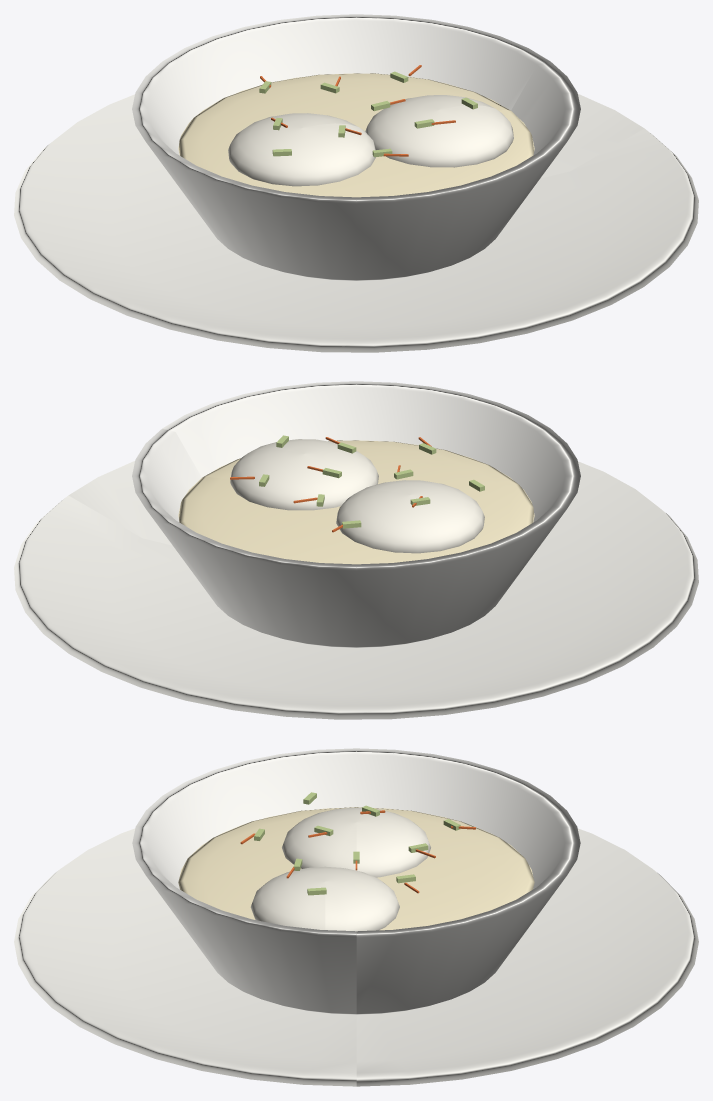
The model's file is rasmalai.glb.
The picture shows the model from 3 angles, top to bottom: view 1: azimuth 30°, elevation 25°; view 2: azimuth 150°, elevation 25°; view 3: azimuth 270°, elevation 25°; orthographic projection.
Visible parts, largest first — view 1: rasmalai; view 2: rasmalai; view 3: rasmalai.
Boxes of the visible parts, left/top/right/bottom form: rasmalai: left=14, top=14, right=698, bottom=352; rasmalai: left=14, top=381, right=698, bottom=719; rasmalai: left=14, top=748, right=698, bottom=1086.
Bounding box in the file's own units: 0.22 × 0.046 × 0.22.
